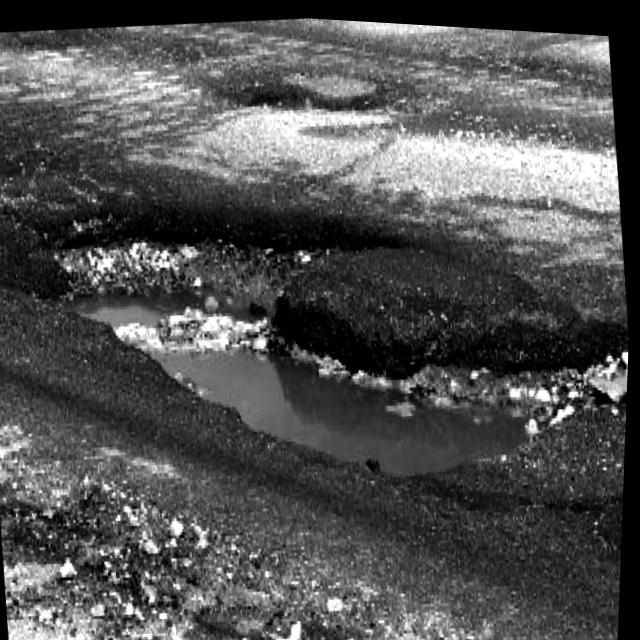pathole: (0, 131, 630, 573)
